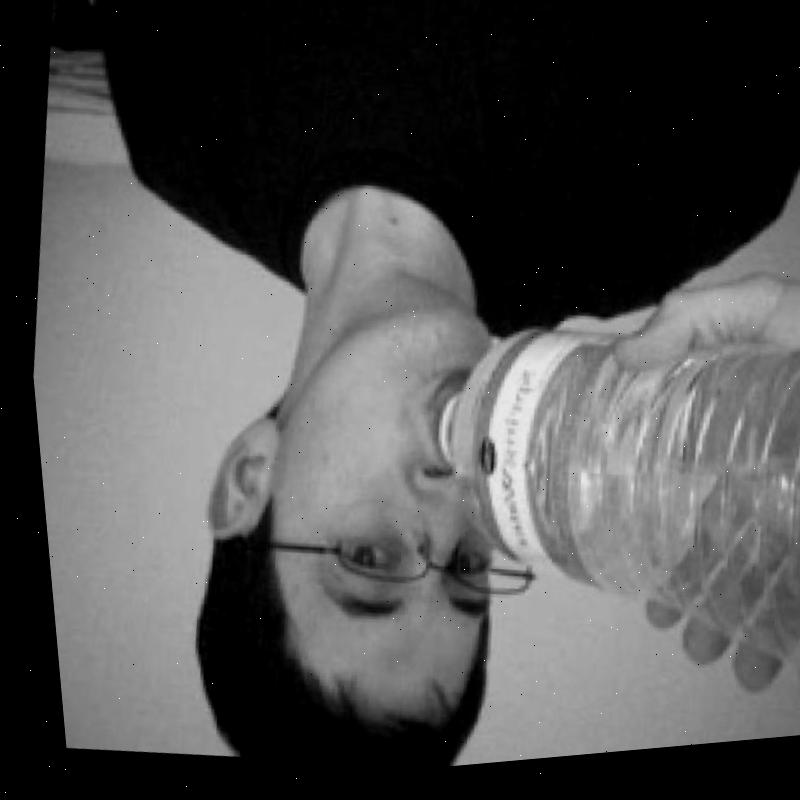botella: (385, 283, 800, 720)
